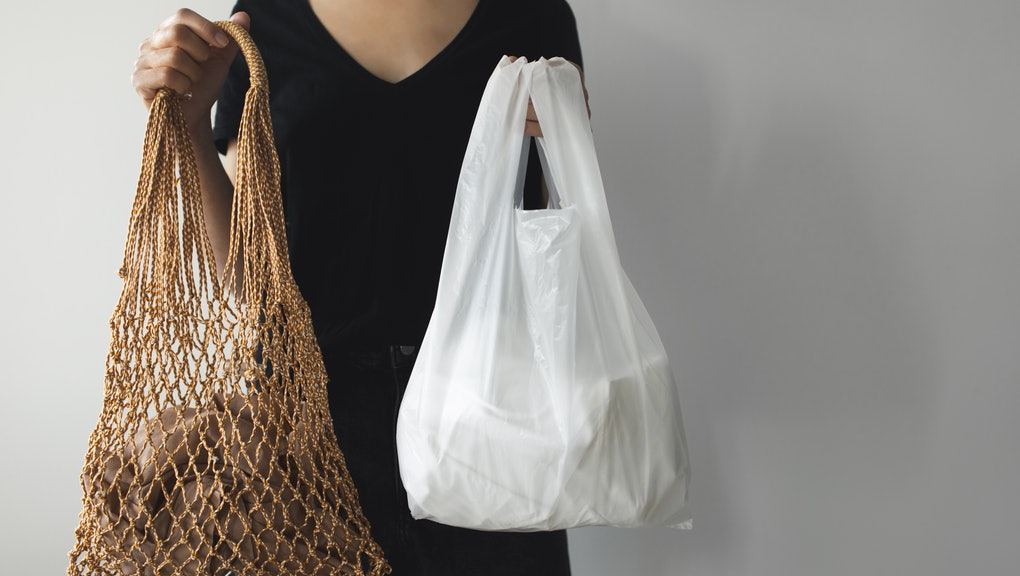plastic bag: (329, 45, 827, 543)
shoulder bag: (1, 12, 563, 574)
